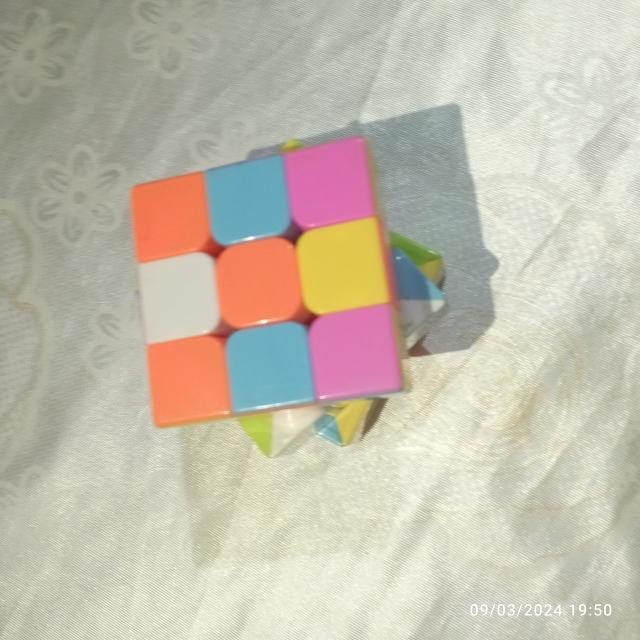Rub: (126, 137, 457, 467)
